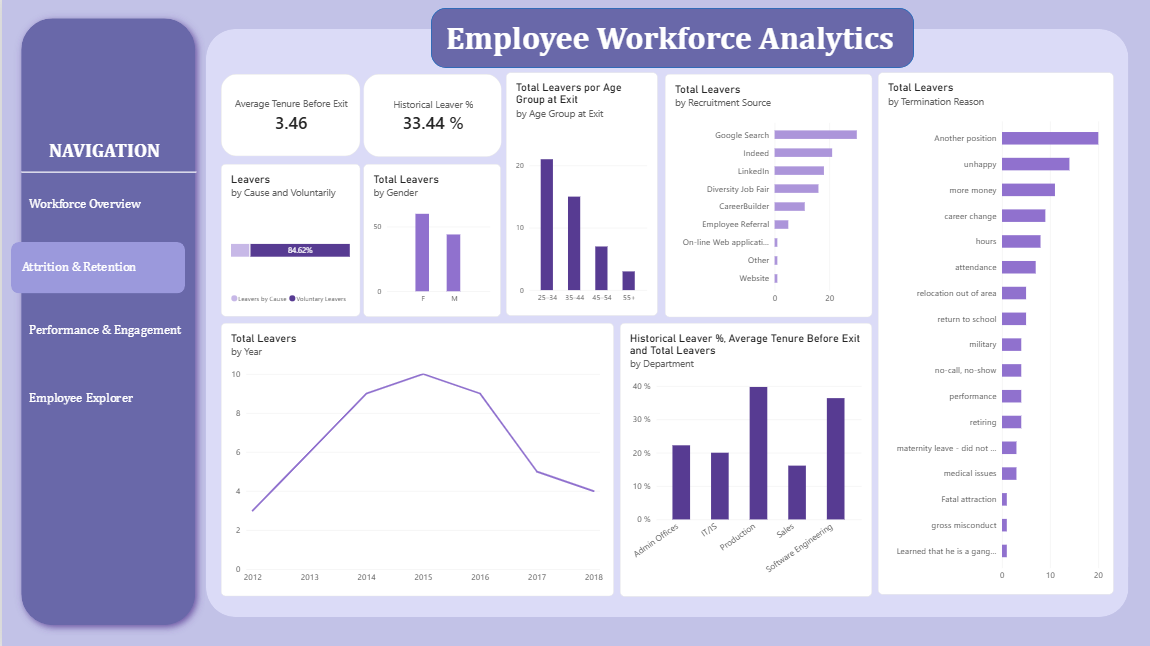

This screenshot's page, from the dashboard's own definition file:
{"tool":"powerbi","page":{"name":"Attrition & Retention","canvas":[1920,1080],"ordinal":1},"visuals":[{"type":"shape","box":[15.7,15.7,324.3,1045.7],"z":0},{"type":"shape","box":[31.4,274.3,291.4,27.1],"z":1000},{"type":"shape","box":[16,404,290,85.7],"z":2000},{"type":"textbox","box":[31.4,433,214.3,42.9],"z":3000},{"type":"actionButton","box":[32,301,291.4,84.3],"z":4000},{"type":"actionButton","box":[31.4,510,291.4,84.3],"z":5000},{"type":"actionButton","box":[31.4,621.4,291.4,84.3],"z":6000},{"type":"textbox","box":[74,232,192,56],"z":7000},{"type":"shape","box":[340.7,50,1537.5,980],"z":8000},{"type":"shape","box":[715,15,805,100],"z":9000},{"type":"textbox","box":[740,32.5,755,82.5],"z":10000},{"type":"cardVisual","fields":{"Data":["HRDataset_v14.Historical Leaver %"]},"box":[602,126,230,138],"z":11000},{"type":"cardVisual","fields":{"Data":["HRDataset_v14.Average Tenure"]},"box":[365.6,125.6,232.2,137.8],"z":12000},{"type":"hundredPercentStackedBarChart","title":"Leavers","fields":{"Y":["HRDataset_v14.Leavers by Cause","HRDataset_v14.Voluntary Leavers"]},"box":[366,276,232,254],"z":13000},{"type":"clusteredColumnChart","title":"Historical Leaver %, Average Tenure Before Exit and Total Leavers","fields":{"Category":["HRDataset_v14.Department","HRDataset_v14.Position"],"Y":["HRDataset_v14.Historical Leaver %"]},"box":[1030,540,420,455.7],"z":15000},{"type":"columnChart","title":"Total Leavers ","fields":{"Category":["HRDataset_v14.Sex"],"Y":["HRDataset_v14.Total Leavers"]},"box":[602.2,275.6,228.9,254.4],"z":16000},{"type":"clusteredColumnChart","fields":{"Category":["HRDataset_v14.Age Group at Exit"],"Y":["HRDataset_v14.Total Leavers"]},"box":[840,122.5,252.5,405],"z":17000},{"type":"clusteredBarChart","title":"Total Leavers ","fields":{"Category":["HRDataset_v14.RecruitmentSource"],"Y":["HRDataset_v14.Total Leavers"]},"box":[1105,125,345,405],"z":18000},{"type":"clusteredBarChart","title":"Total Leavers","fields":{"Category":["HRDataset_v14.TermReason"],"Y":["HRDataset_v14.Total Leavers"]},"box":[1460,122.5,392.5,870],"z":19000},{"type":"lineChart","title":"Total Leavers","fields":{"Category":["HRDataset_v14.DateofTermination.Variation.Jerarquía de fechas.Año","HRDataset_v14.DateofTermination.Variation.Jerarquía de fechas.Trimestre","HRDataset_v14.DateofTermination.Variation.Jerarquía de fechas.Mes","HRDataset_v14.DateofTermination.Variation.Jerarquía de fechas.Día"],"Y":["HRDataset_v14.Total Leavers"]},"box":[365.6,540,654.4,455.6],"z":20000}]}

Visuals, with their boxes in screenshot pixels (x1, y1, x2, y2), scaled from the page's 1920x1080 canvas onto the 1150x646 screenshot:
shape: [9,9,204,635]
shape: [19,164,193,180]
shape: [10,242,183,293]
textbox: [19,259,147,285]
actionButton: [19,180,194,230]
actionButton: [19,305,193,355]
actionButton: [19,372,193,422]
textbox: [44,139,159,172]
shape: [204,30,1125,616]
shape: [428,9,910,69]
textbox: [443,19,895,69]
cardVisual - HRDataset_v14.Historical Leaver %: [361,75,498,158]
cardVisual - HRDataset_v14.Average Tenure: [219,75,358,158]
"Leavers" hundredPercentStackedBarChart: [219,165,358,317]
"Historical Leaver %, Average Tenure Before Exit and Total Leavers" clusteredColumnChart: [617,323,868,596]
"Total Leavers " columnChart: [361,165,498,317]
clusteredColumnChart - HRDataset_v14.Age Group at Exit x HRDataset_v14.Total Leavers: [503,73,654,316]
"Total Leavers " clusteredBarChart: [662,75,868,317]
"Total Leavers" clusteredBarChart: [874,73,1110,594]
"Total Leavers" lineChart: [219,323,611,596]
